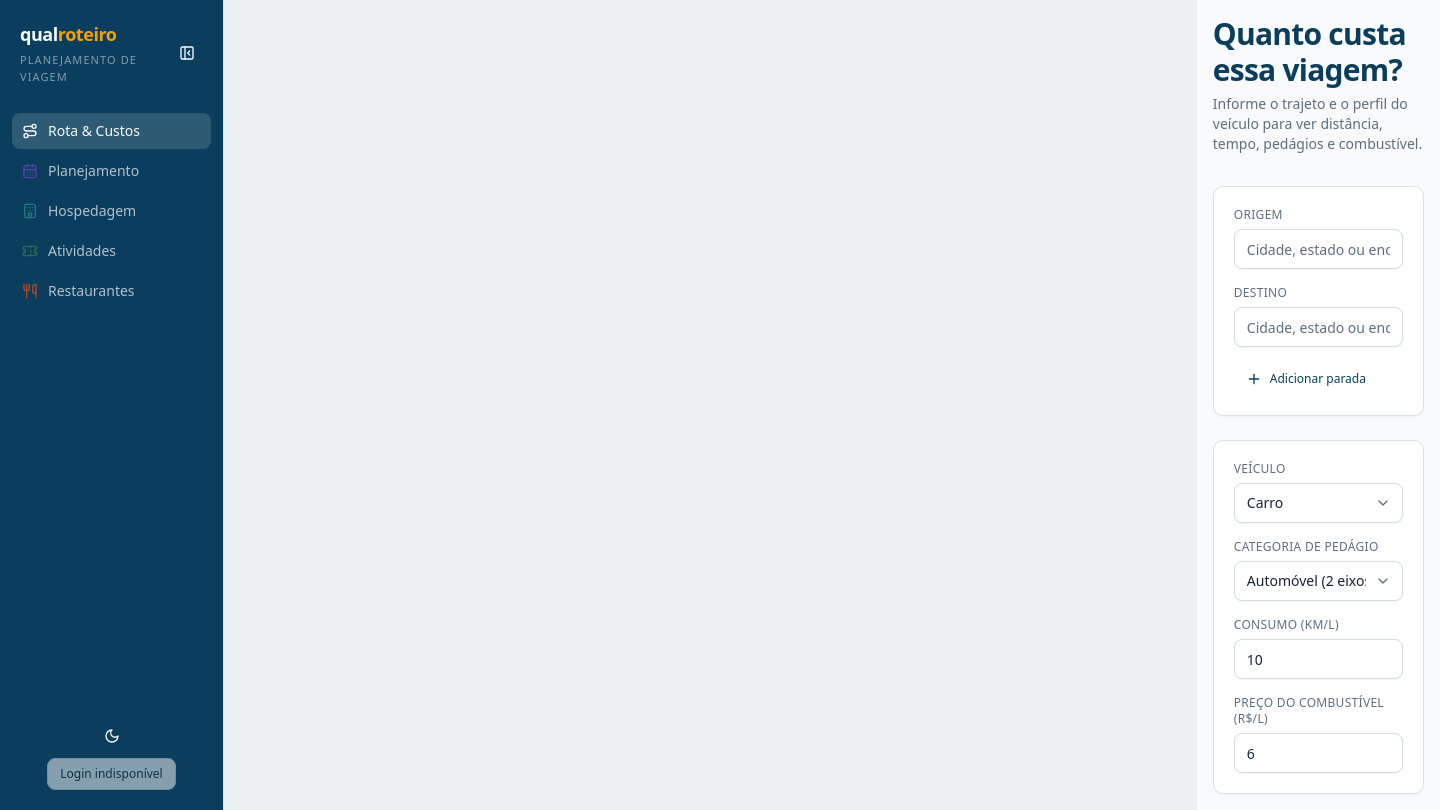
Test: Pontos na rota — layer toggling › toggling the toll layer removes and restores its markers on the map
Type "São Paulo, SP" into the dropdown labelled "Origem" at (1318, 249), box x1=1234 y1=229 x2=1403 y2=269
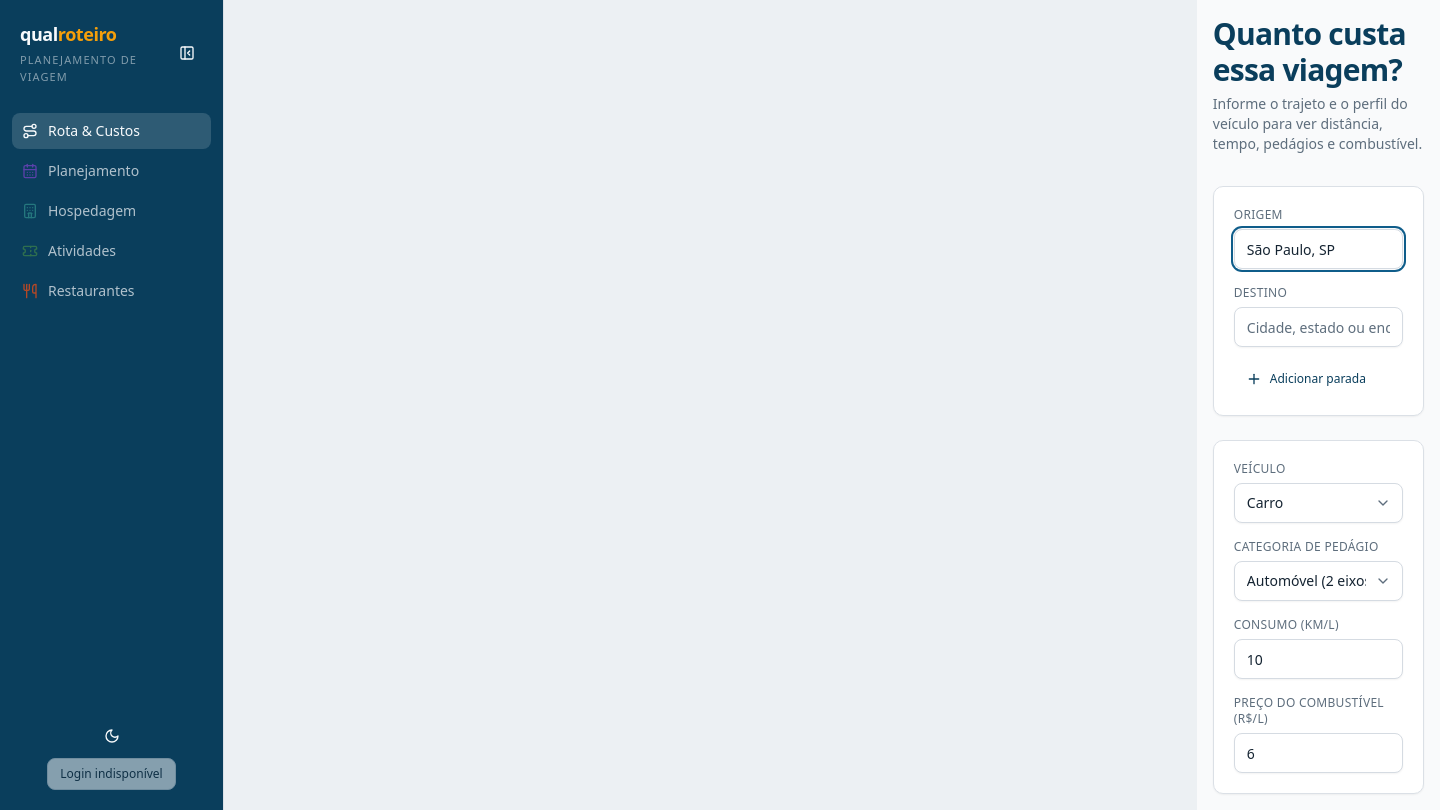
Type "Rio de Janeiro, RJ" into the dropdown labelled "Destino" at (1318, 327), box x1=1234 y1=307 x2=1403 y2=347
(page scrolled)
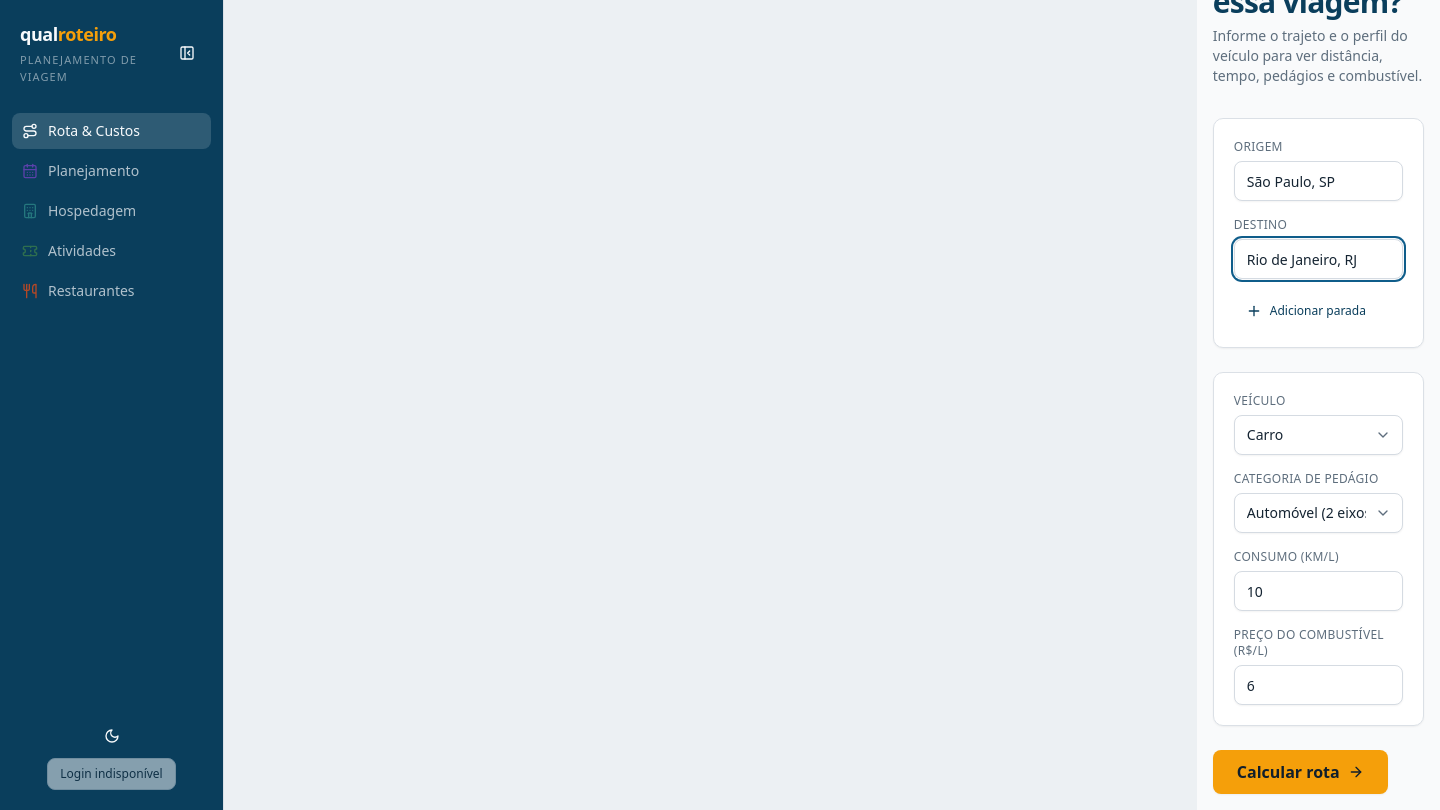
Click the button "Calcular rota" at (1300, 772), box x1=1213 y1=750 x2=1388 y2=794
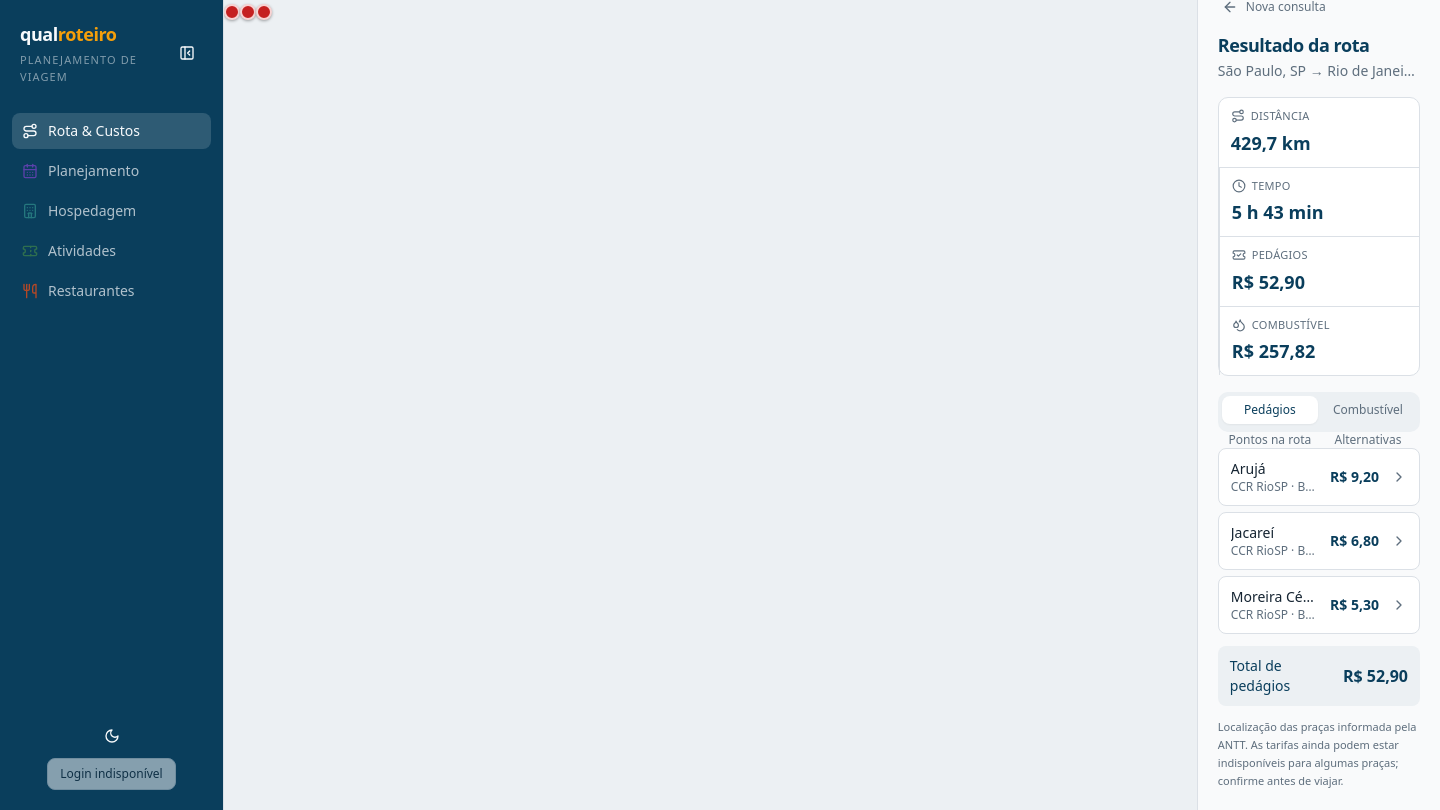
Result: the heading "Resultado da rota" is shown at x1=1218 y1=33 x2=1369 y2=57
Click the tab "Pontos na rota" at (1270, 440), box x1=1222 y1=426 x2=1318 y2=454
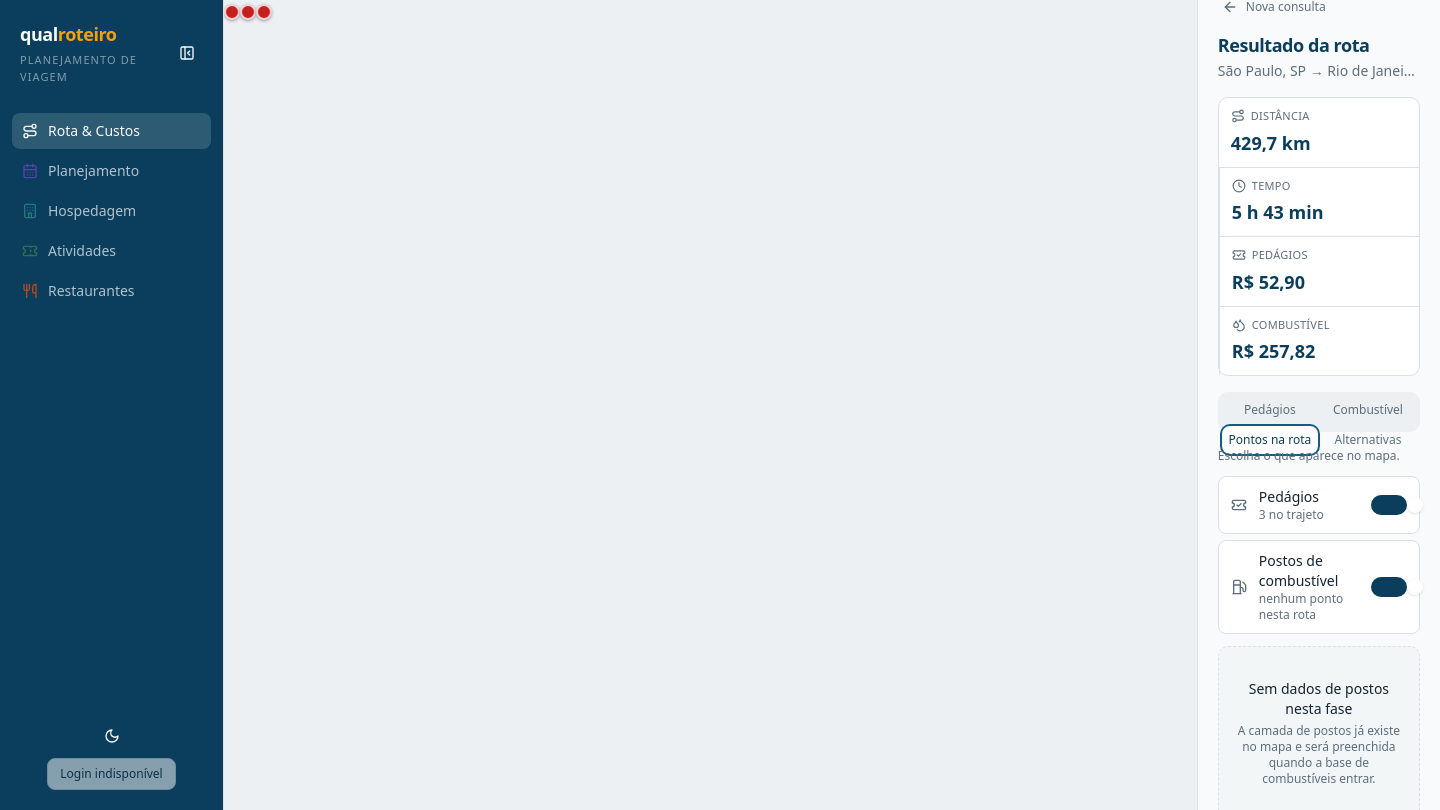
Result: the button named "Arujá" is shown at x1=224 y1=4 x2=240 y2=20
Click the switch named "pedágios" at (1389, 505), box x1=1371 y1=495 x2=1407 y2=515
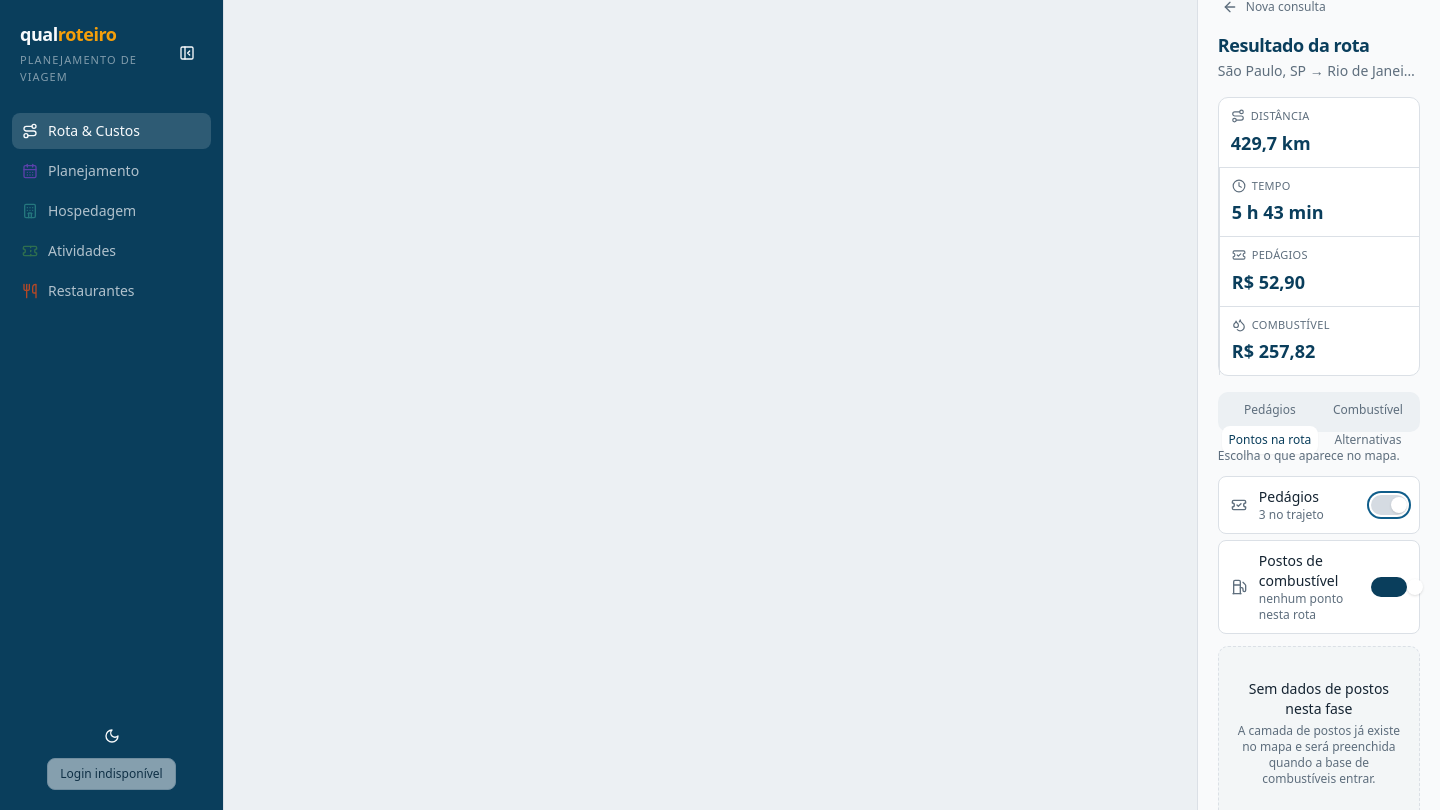
Expected: the button "Arujá" is not shown
Click the switch named "pedágios" at (1389, 505), box x1=1371 y1=495 x2=1407 y2=515
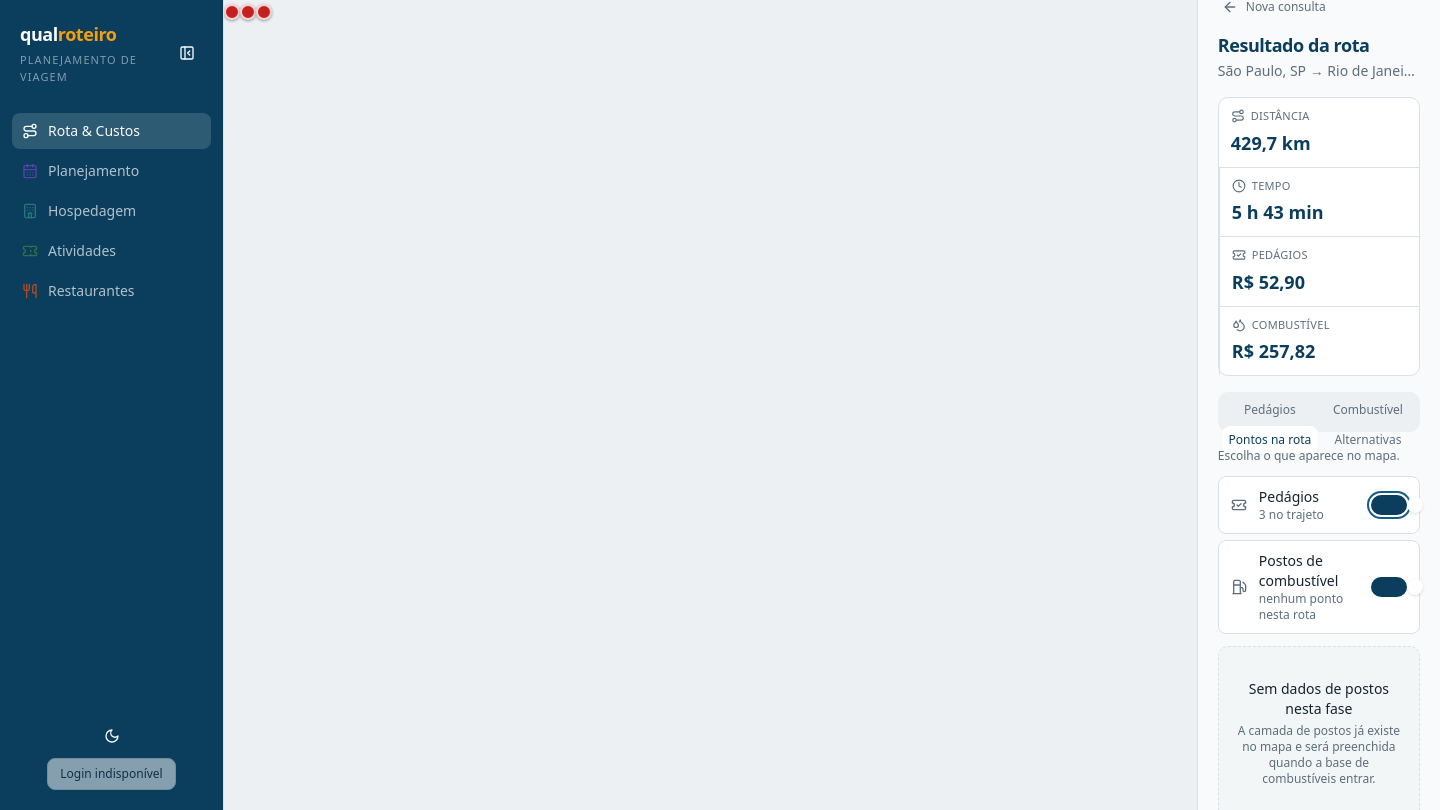
Result: the button named "Arujá" is shown at x1=224 y1=4 x2=240 y2=20
